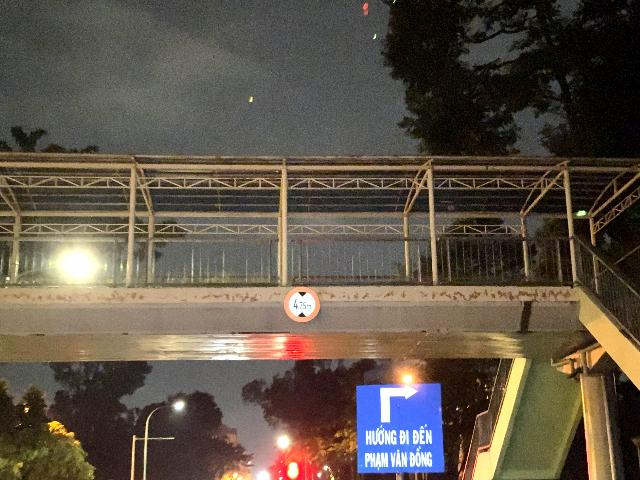han-che-chieu-cao: (284, 287, 320, 323)
